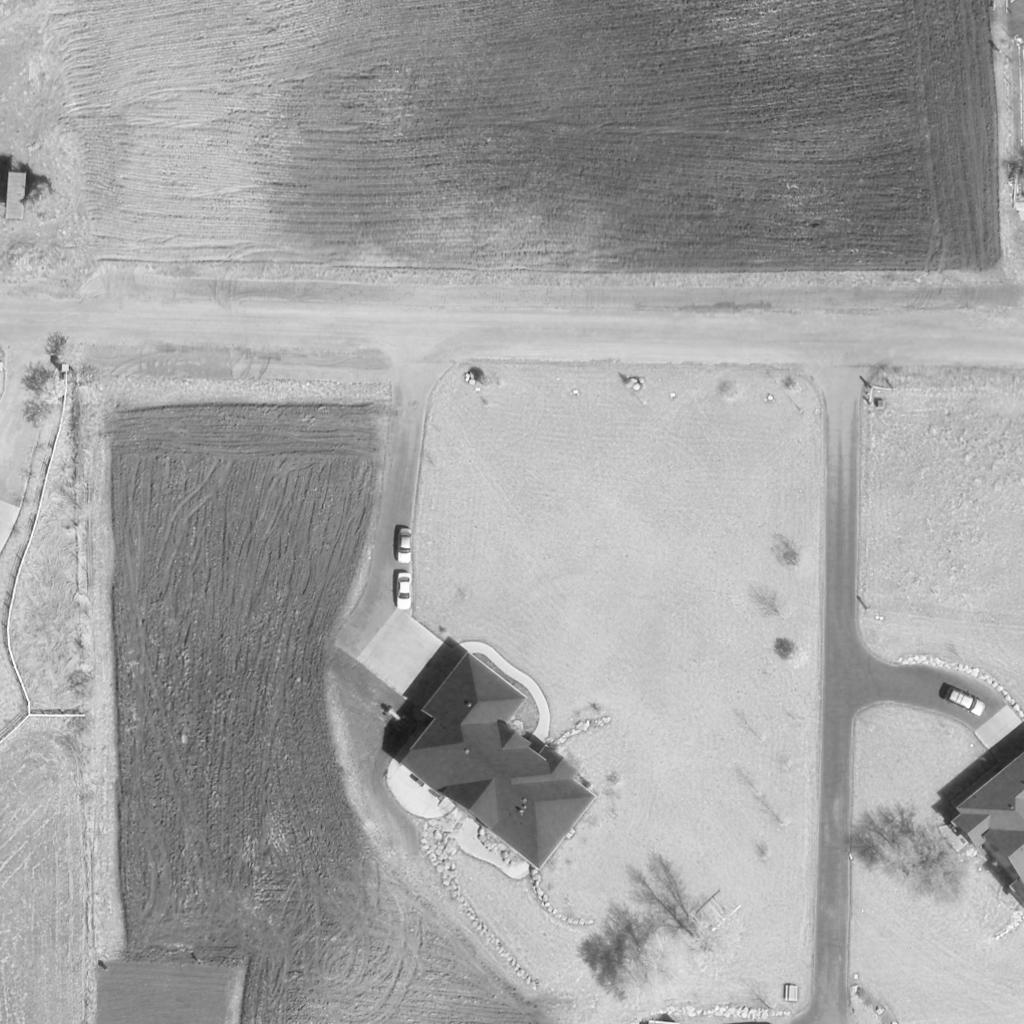vehicle: (380, 703, 422, 739), (944, 684, 988, 718), (397, 527, 413, 565), (396, 574, 412, 610)
